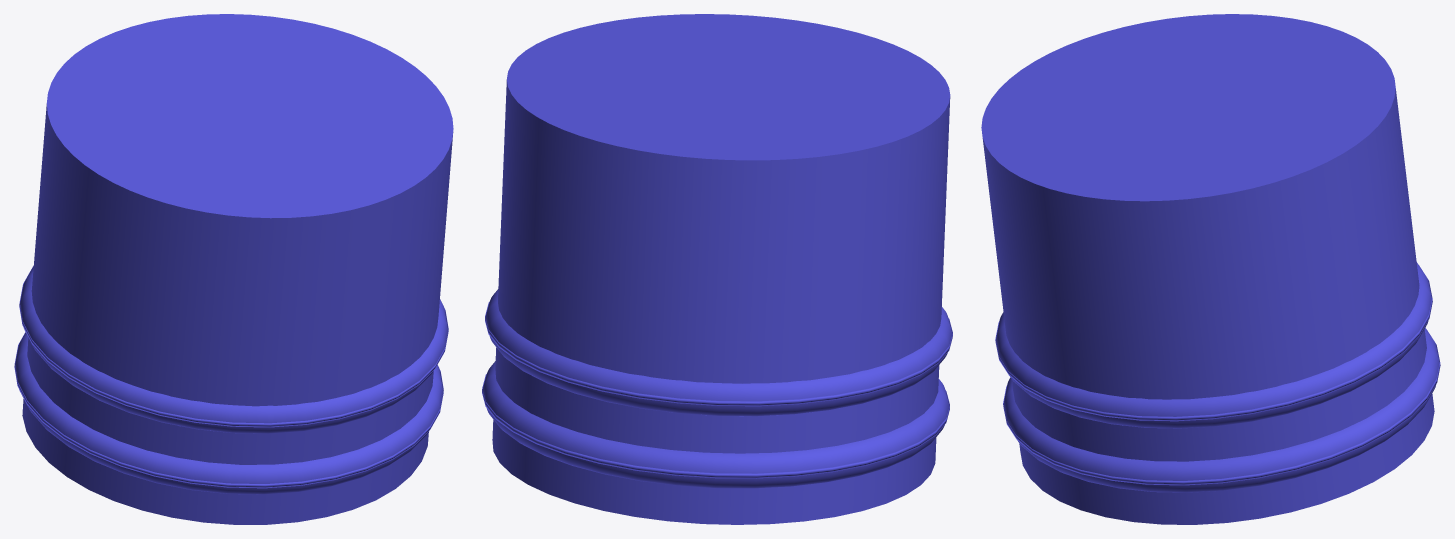
File: bombilla223.obj
3 views of the same model, side by side, from view 1: azimuth 30°, elevation 25°; view 2: azimuth 150°, elevation 25°; view 3: azimuth 270°, elevation 25° (orthographic). The views are drawn at different scales.
Visible parts, largest first — view 1: Cylinder001, Cylinder004, Cylinder002, Cylinder003, Cylinder006; view 2: Cylinder001, Cylinder004, Cylinder003, Cylinder006, Cylinder002; view 3: Cylinder001, Cylinder004, Cylinder003, Cylinder002, Cylinder006.
Boxes of the visible parts, left/top/right/bottom form: Cylinder001: left=31, top=14, right=453, bottom=406; Cylinder004: left=14, top=332, right=443, bottom=494; Cylinder002: left=19, top=266, right=448, bottom=433; Cylinder003: left=27, top=338, right=433, bottom=464; Cylinder006: left=22, top=399, right=428, bottom=524; Cylinder001: left=498, top=14, right=950, bottom=383; Cylinder004: left=482, top=361, right=949, bottom=488; Cylinder003: left=495, top=347, right=939, bottom=453; Cylinder006: left=492, top=420, right=936, bottom=524; Cylinder002: left=485, top=289, right=952, bottom=416; Cylinder001: left=981, top=14, right=1419, bottom=399; Cylinder004: left=1003, top=328, right=1440, bottom=492; Cylinder003: left=1011, top=329, right=1426, bottom=461; Cylinder002: left=995, top=262, right=1432, bottom=428; Cylinder006: left=1019, top=393, right=1434, bottom=524.
Bounding box in the file's own units: 72.45 × 66.65 × 75.43.
